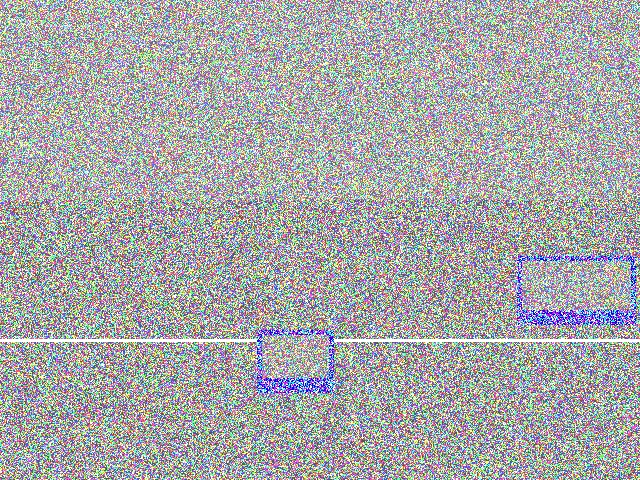bus: (173, 354, 242, 413)
truck: (308, 282, 396, 390)
